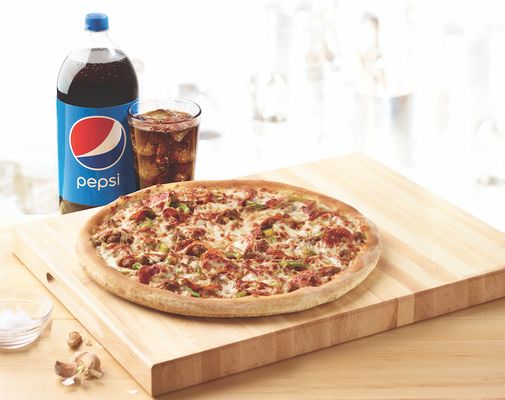sushi: (0, 286, 54, 351)
